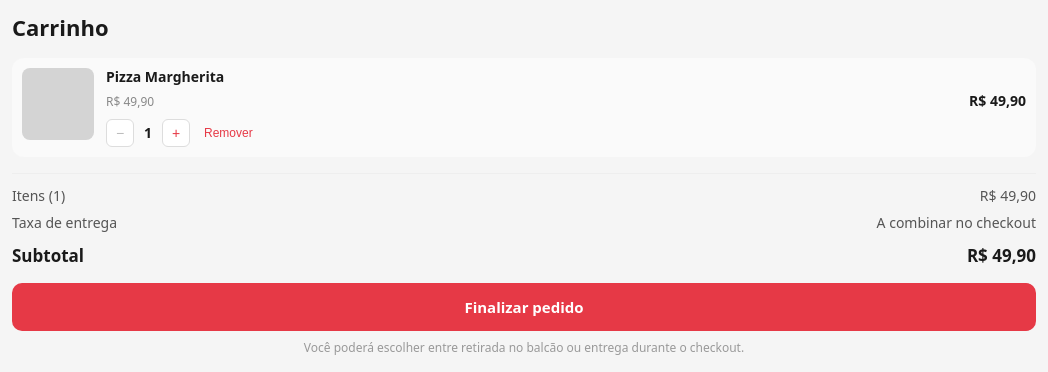
Test: CartPage › increments quantity and updates totals
Click the button named "Aumentar quantidade" at (176,132), box [162,118,190,146]
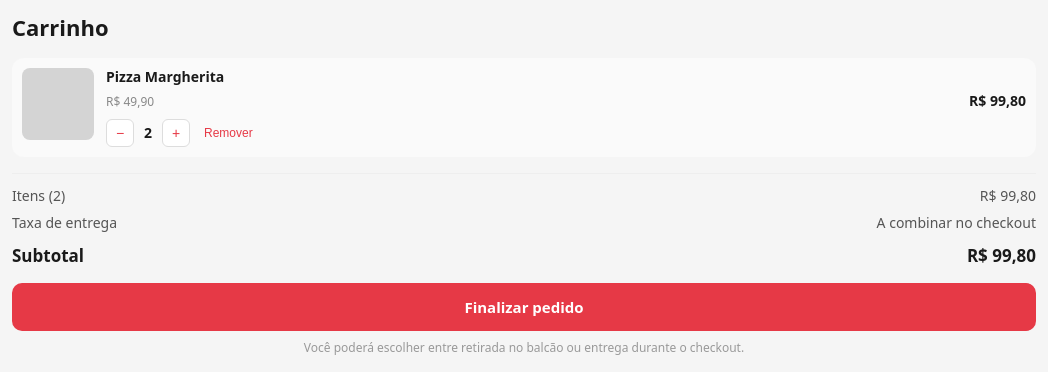
Check: the text "R$ 99,80" in the row of "R$ 49,90" is shown, box [969,90,1026,110]
